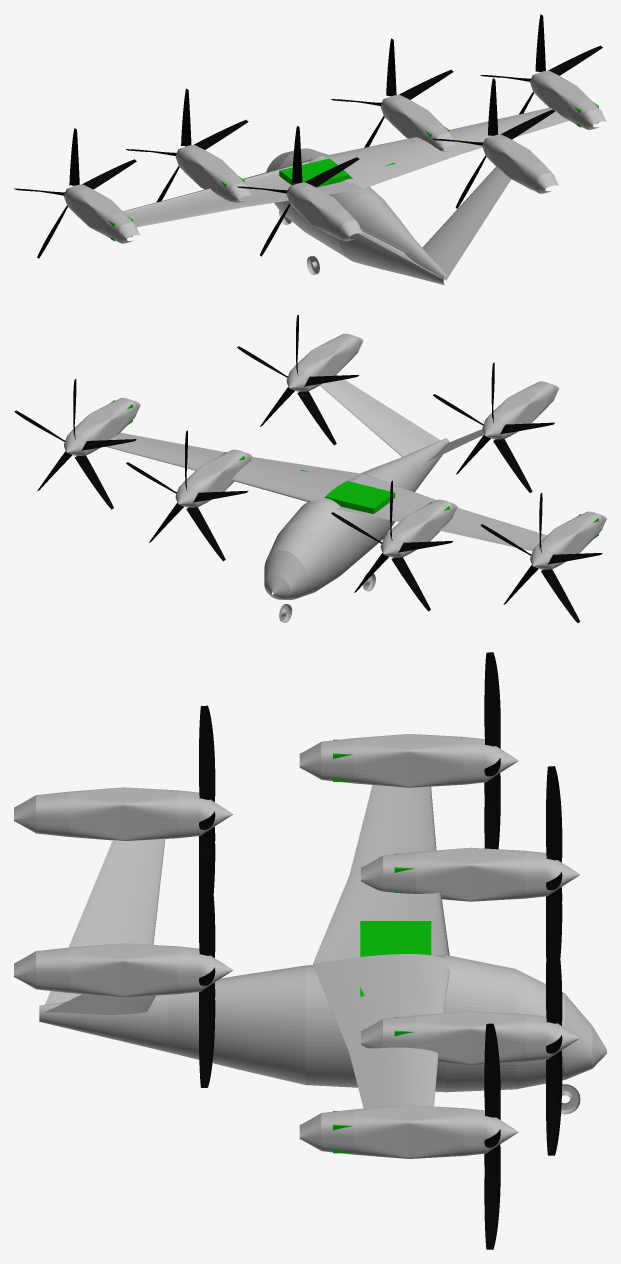
The model's file is Tiltrotor.gltf.
3 renders of one model, top to bottom at view 1: azimuth 30°, elevation 25°; view 2: azimuth 150°, elevation 25°; view 3: azimuth 270°, elevation 25°, orthographic. The views are drawn at different scales.
Visible parts, largest first — view 1: Renderer Node; view 2: Renderer Node; view 3: Renderer Node.
Boxes of the visible parts, x1=… form: Renderer Node: x1=14, y1=14, x2=606, y2=285; Renderer Node: x1=14, y1=314, x2=606, y2=622; Renderer Node: x1=14, y1=652, x2=606, y2=1249.
Bounding box in the file's own units: 12.6 × 4.19 × 6.75.
